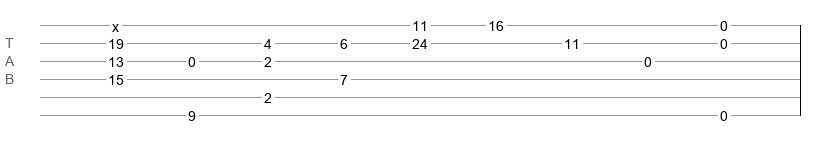0: (188, 54, 196, 64), (644, 54, 652, 64), (720, 18, 728, 28), (720, 36, 728, 46), (720, 108, 728, 118)
11: (412, 18, 428, 28), (564, 36, 580, 46)
13: (108, 54, 124, 64)
15: (108, 72, 124, 82)
16: (488, 18, 504, 28)
19: (108, 36, 124, 46)
2: (264, 90, 272, 100), (264, 54, 272, 64)
24: (412, 36, 428, 46)
4: (264, 36, 272, 46)
6: (340, 36, 348, 46)
7: (340, 72, 348, 82)
9: (188, 108, 196, 118)
x: (112, 19, 119, 27)
